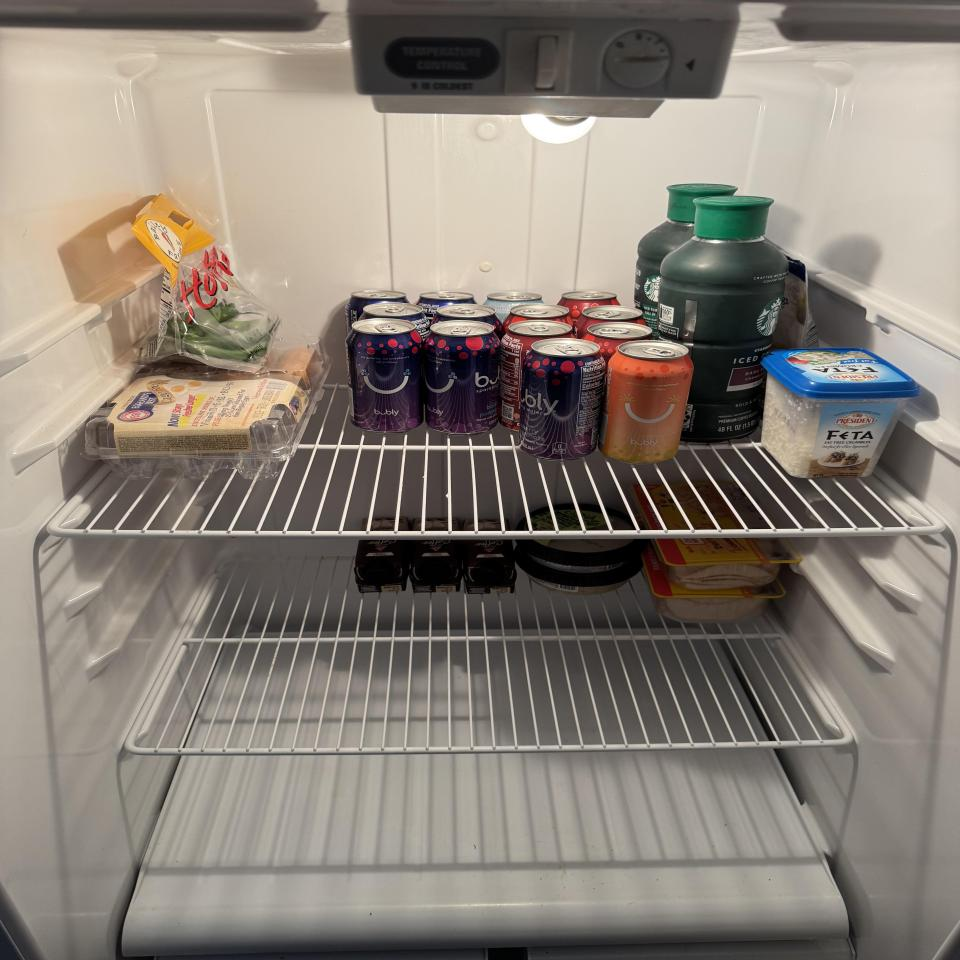Huevos: (87, 341, 323, 480)
